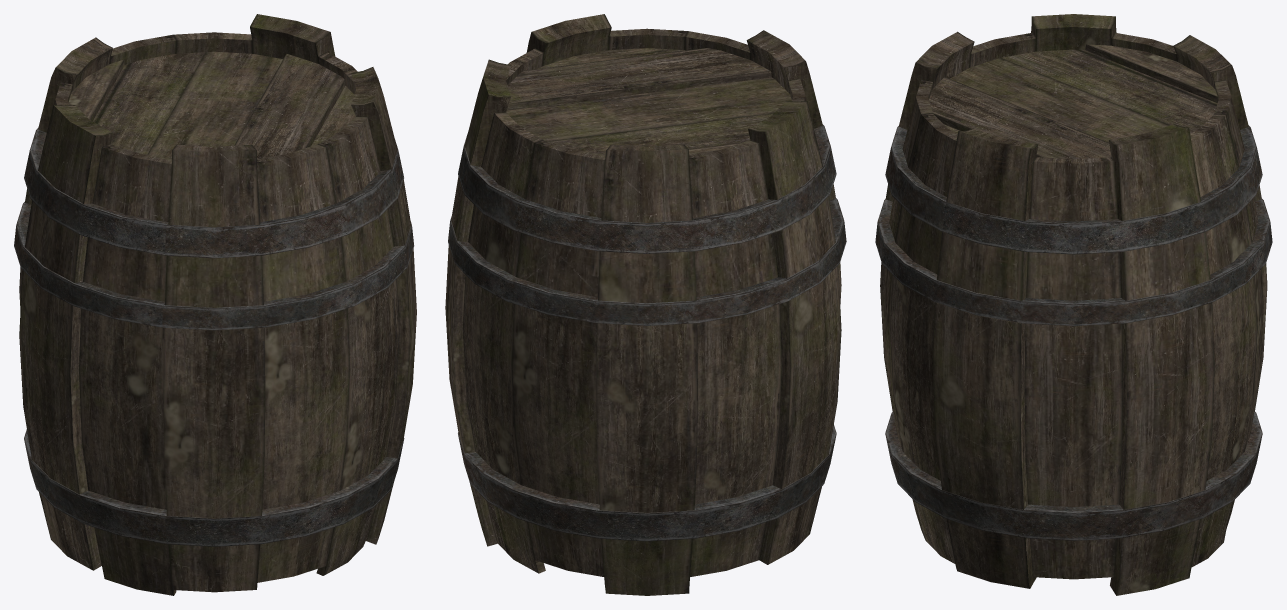
Rendered from Barrel04.fbx.
The picture shows the model from 3 angles, left to right: view 1: azimuth 30°, elevation 25°; view 2: azimuth 150°, elevation 25°; view 3: azimuth 270°, elevation 25°; orthographic projection.
Visible parts, largest first — view 1: Barrel04; view 2: Barrel04; view 3: Barrel04.
Part boxes in pixels (x1,y1,x2,y2): Barrel04: (14,14,416,595); Barrel04: (445,14,846,595); Barrel04: (875,14,1272,595).
Size of the model in its own units: 78.99 by 98.18 by 78.55.
